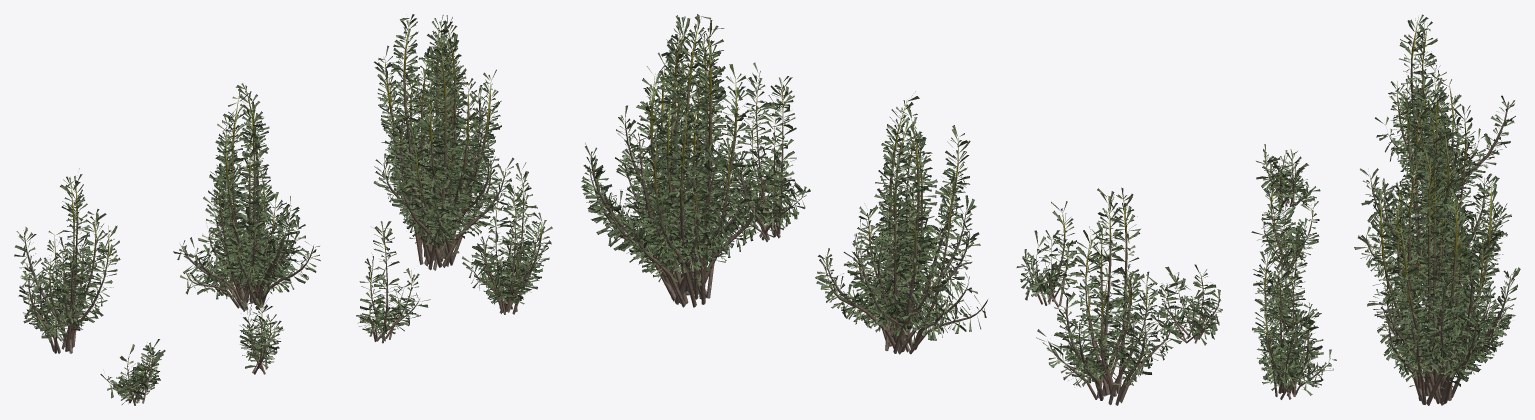
Rendered from othonna_cerarioides.glb.
3 renders of one model, left to right at view 1: azimuth 30°, elevation 25°; view 2: azimuth 150°, elevation 25°; view 3: azimuth 270°, elevation 25°, orthographic. The views are drawn at different scales.
Parts seen in each view (by area): view 1: othonna_cerarioides_a, othonna_cerarioides_b, othonna_cerarioides_c, othonna_cerarioides_d, othonna_cerarioides_e, othonna_cerarioides_f, othonna_cerarioides_g; view 2: othonna_cerarioides_a, othonna_cerarioides_b, othonna_cerarioides_c, othonna_cerarioides_d, othonna_cerarioides_g, othonna_cerarioides_f, othonna_cerarioides_e; view 3: othonna_cerarioides_a, othonna_cerarioides_b, othonna_cerarioides_d, othonna_cerarioides_c, othonna_cerarioides_e, othonna_cerarioides_f, othonna_cerarioides_g.
Part boxes in pixels (x1,y1,x2,y2): othonna_cerarioides_a: (374, 14, 513, 270); othonna_cerarioides_b: (173, 83, 320, 311); othonna_cerarioides_c: (14, 168, 120, 353); othonna_cerarioides_d: (462, 162, 552, 314); othonna_cerarioides_e: (356, 221, 430, 343); othonna_cerarioides_f: (239, 286, 283, 374); othonna_cerarioides_g: (100, 339, 165, 405); othonna_cerarioides_a: (581, 14, 778, 307); othonna_cerarioides_b: (815, 91, 987, 354); othonna_cerarioides_c: (1036, 187, 1182, 405); othonna_cerarioides_d: (717, 62, 810, 241); othonna_cerarioides_g: (1141, 264, 1222, 345); othonna_cerarioides_f: (1016, 201, 1079, 307); othonna_cerarioides_e: (853, 130, 953, 268); othonna_cerarioides_a: (1367, 119, 1520, 405); othonna_cerarioides_b: (1354, 57, 1511, 304); othonna_cerarioides_d: (1252, 247, 1336, 399); othonna_cerarioides_c: (1375, 14, 1515, 206); othonna_cerarioides_e: (1253, 205, 1321, 335); othonna_cerarioides_f: (1251, 173, 1319, 270); othonna_cerarioides_g: (1256, 144, 1320, 206).
Bounding box in the file's own units: 3.97 × 1.97 × 1.8.
Materials: 2 (2 with a texture image).
